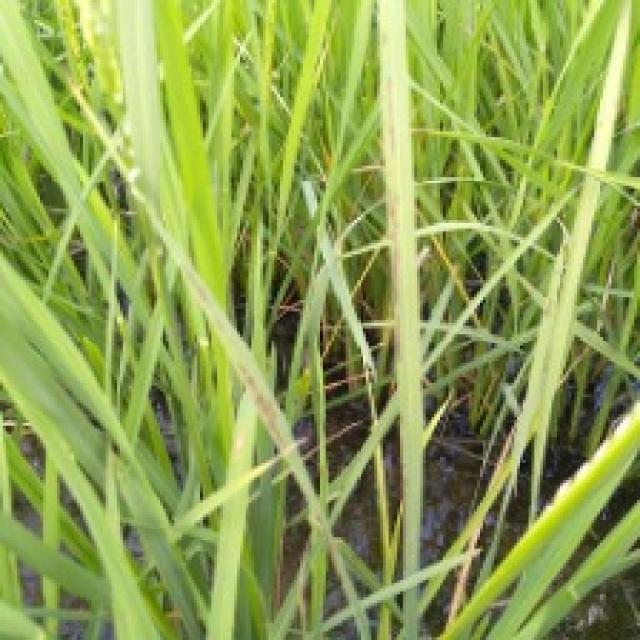Rice___Brown_Spot: (149, 217, 320, 527)
